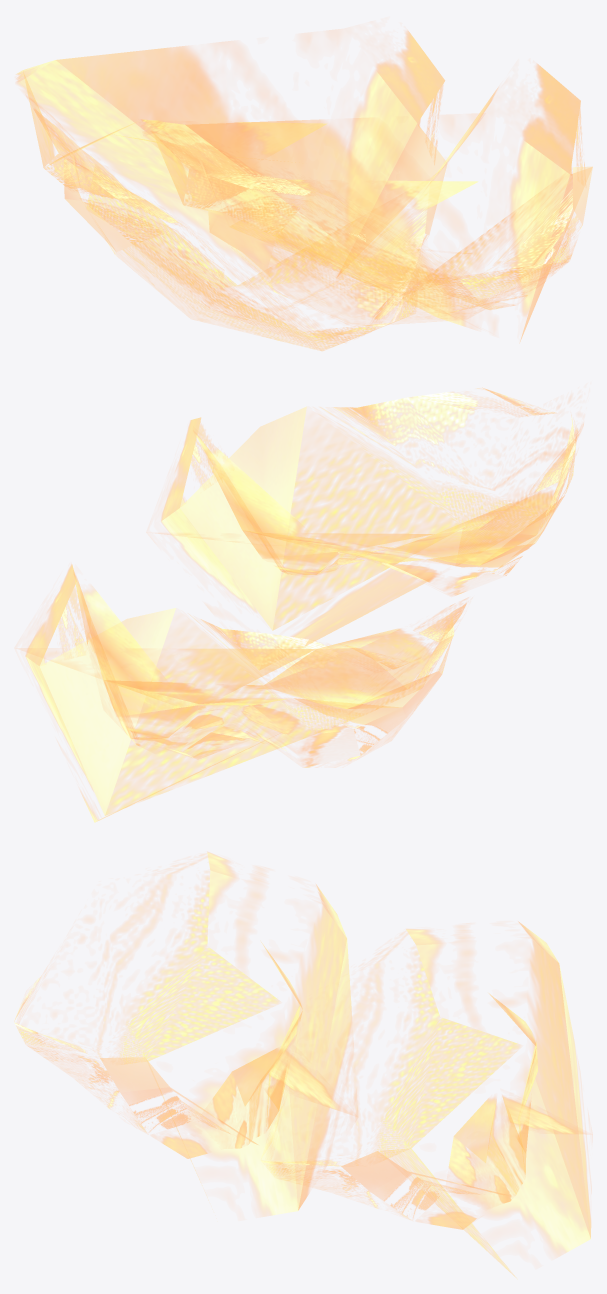
The model's file is butterfly2.glb.
3 views of the same model, one above another, from view 1: azimuth 30°, elevation 25°; view 2: azimuth 150°, elevation 25°; view 3: azimuth 270°, elevation 25° (orthographic). The views are drawn at different scales.
Visible parts, largest first — view 1: name0, name1; view 2: name1, name0; view 3: name1, name0.
Boxes of the visible parts, x1,y1,x2,y2 form: name0: (16,30,447,350); name1: (141,64,592,341); name1: (158,387,583,670); name0: (20,564,468,822); name1: (14,852,357,1216); name0: (261,921,592,1276).
Bounding box in the file's own units: 0.2459 × 0.2109 × 0.3722.
Materials: 1 (1 with a texture image).
